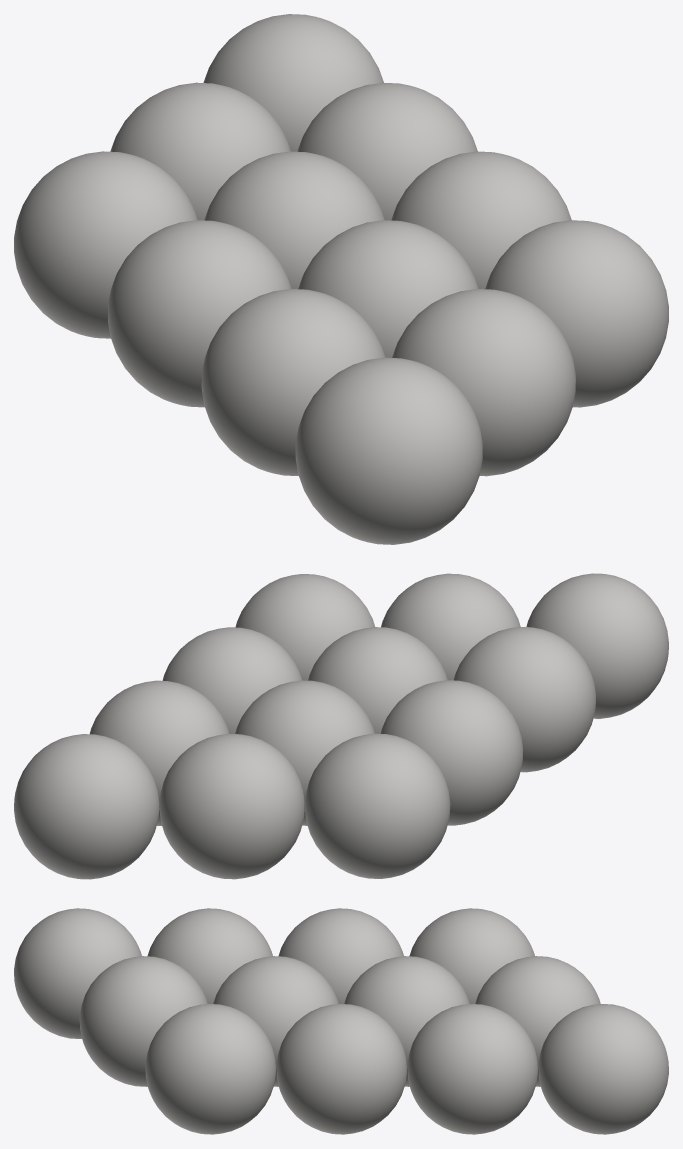
Rendered from mianxin3_1.FBX.
3 renders of one model, top to bottom at view 1: azimuth 30°, elevation 25°; view 2: azimuth 150°, elevation 25°; view 3: azimuth 270°, elevation 25°, orthographic. The views are drawn at different scales.
Visible parts, largest first — view 1: 对象123; view 2: 对象123; view 3: 对象123.
Part boxes in pixels (x1,y1,x2,y2): 对象123: [14, 14, 668, 544]; 对象123: [14, 573, 668, 879]; 对象123: [14, 908, 668, 1134].
Size of the model in its own units: 109 by 40 by 200.
